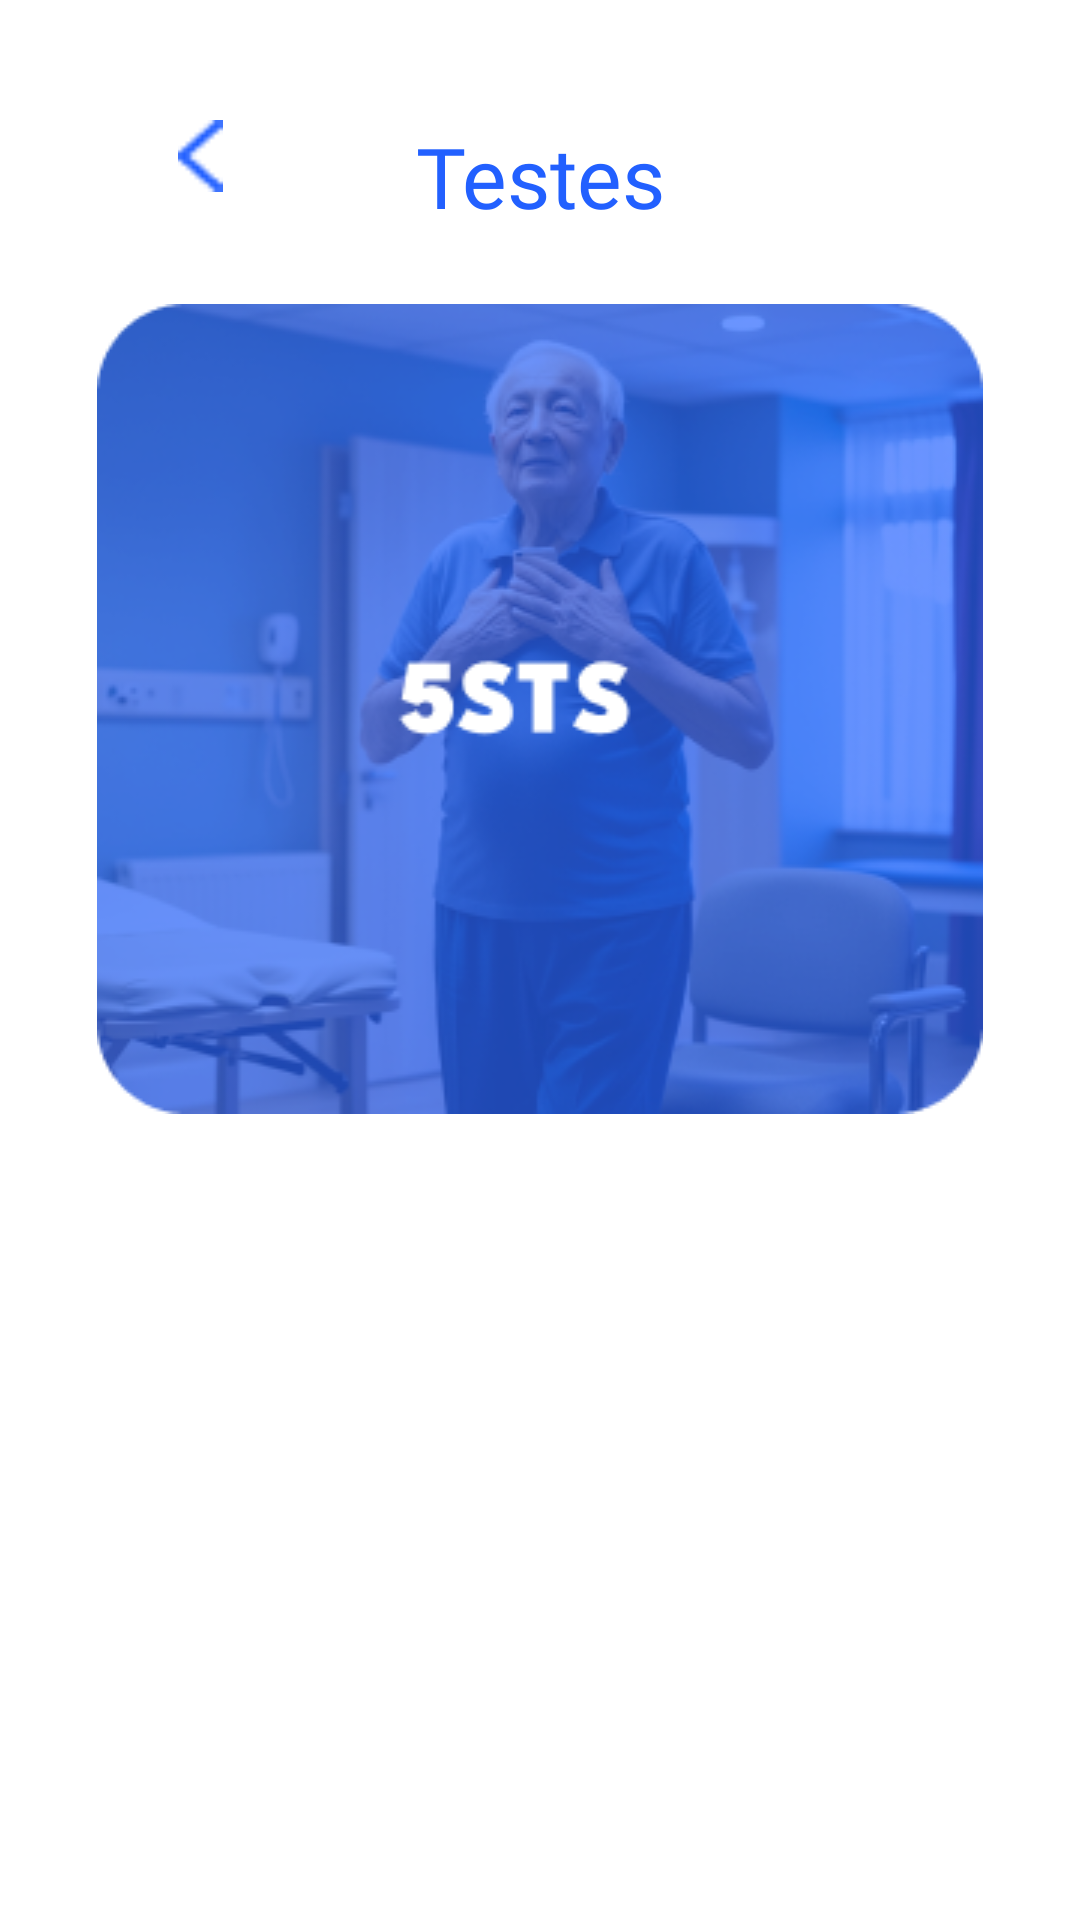

Locate icon controls on the screen. Image size 1080×1920, boxes as {"left": x1, "top": y1, "right": x2, "bottom": y2}.
arrow: {"left": 178, "top": 120, "right": 223, "bottom": 192}
